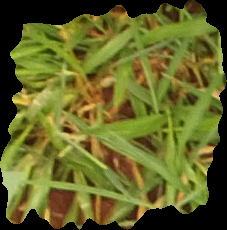grass: (1, 1, 225, 228)
